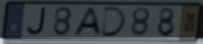8: (52, 5, 74, 38), (129, 7, 153, 37), (157, 7, 177, 38)
A: (71, 7, 104, 37)
D: (99, 6, 128, 38)
J: (26, 6, 49, 36)
